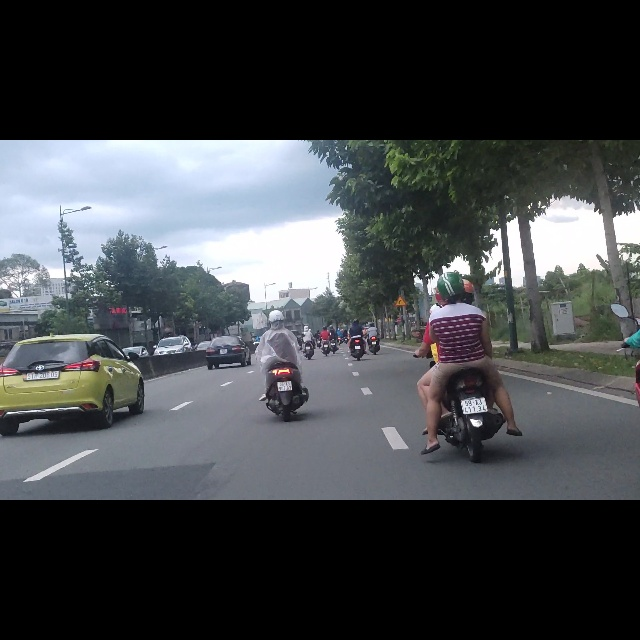bien_nguy_hiem: (394, 276, 407, 295)
